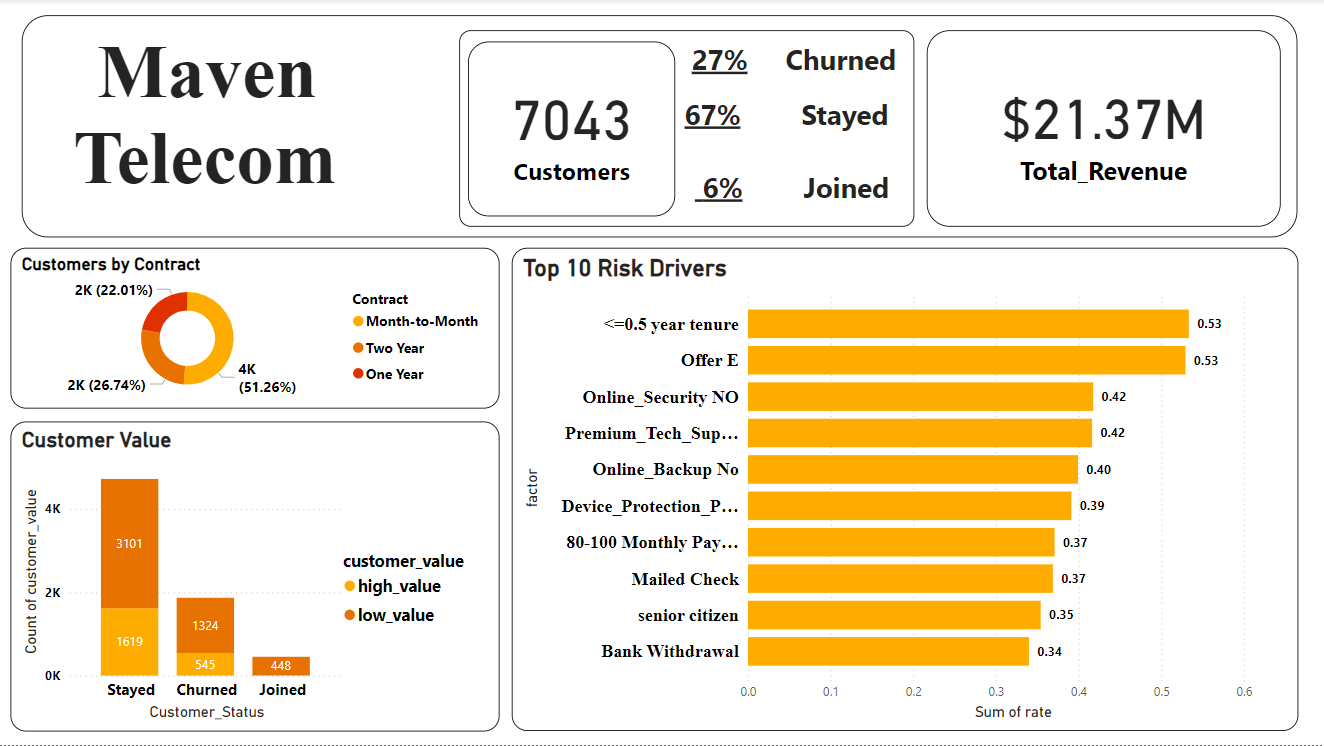

Layout of this report page (visuals, bound fields, positions):
{"tool":"powerbi","page":{"name":"Overview","canvas":[1280,720],"ordinal":0},"visuals":[{"type":"textbox","box":[23.3,15.1,1230.9,214.1],"z":0},{"type":"textbox","box":[444.6,30.2,439.1,189.4],"z":1000},{"type":"card","fields":{"Values":["My_Measures.Total_customers"]},"box":[454.2,41.2,200.3,168.8],"z":2000},{"type":"card","fields":{"Values":["My_Measures.Total_Revenue"]},"box":[896.1,30.2,341.7,189.4],"z":3000},{"type":"columnChart","title":"Customer Value","fields":{"Category":["telecom_customer_churn.Customer_Status"],"Series":["customervalue.customer_value"],"Y":["CountNonNull(customervalue.customer_value)"]},"box":[12.3,407.5,472,299.1],"z":4000},{"type":"clusteredBarChart","title":"Top 10 Risk Drivers","fields":{"Category":["riskfactor.factor"],"Y":["Sum(riskfactor.churn_rate)"]},"box":[495.4,240.1,758.8,466.6],"z":5000},{"type":"donutChart","fields":{"Category":["telecom_customer_churn.Contract"],"Y":["My_Measures.Customers"]},"box":[12.3,240.1,472,155.1],"z":5001}]}

Visuals, with their boxes in screenshot pixels (x1, y1, x2, y2), scaled from the page's 1280x720 canvas onto the 1324x746 screenshot:
textbox: pyautogui.locateOnScreen(24, 16, 1297, 237)
textbox: pyautogui.locateOnScreen(460, 31, 914, 228)
card - My_Measures.Total_customers: pyautogui.locateOnScreen(470, 43, 677, 218)
card - My_Measures.Total_Revenue: pyautogui.locateOnScreen(927, 31, 1280, 228)
"Customer Value" columnChart: pyautogui.locateOnScreen(13, 422, 501, 732)
"Top 10 Risk Drivers" clusteredBarChart: pyautogui.locateOnScreen(512, 249, 1297, 732)
donutChart - telecom_customer_churn.Contract x My_Measures.Customers: pyautogui.locateOnScreen(13, 249, 501, 409)
